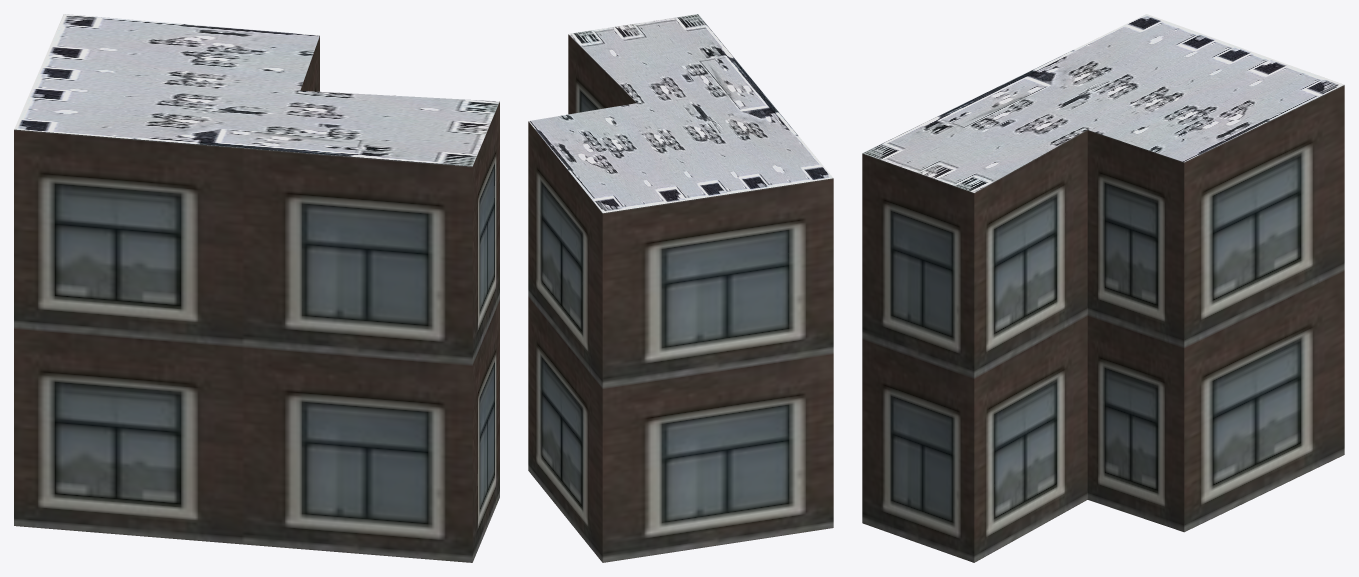
The model's file is ResTex__1851.fbx.
3 views of the same model, side by side, from view 1: azimuth 30°, elevation 25°; view 2: azimuth 150°, elevation 25°; view 3: azimuth 270°, elevation 25° (orthographic). The views are drawn at different scales.
Parts seen in each view (by area): view 1: CityEngineMaterial_16_m, CityEngineMaterial_15_m; view 2: CityEngineMaterial_16_m, CityEngineMaterial_15_m; view 3: CityEngineMaterial_16_m, CityEngineMaterial_15_m.
Boxes of the visible parts, box(x1,y1,x2,y2) form: CityEngineMaterial_16_m: box(14, 36, 499, 562); CityEngineMaterial_15_m: box(14, 14, 499, 166); CityEngineMaterial_16_m: box(528, 34, 833, 562); CityEngineMaterial_15_m: box(528, 14, 832, 213); CityEngineMaterial_16_m: box(862, 85, 1344, 562); CityEngineMaterial_15_m: box(862, 14, 1344, 192).
Size of the model in its own units: 6.23 by 6 by 7.09.
Materials: 2 (2 with a texture image).
